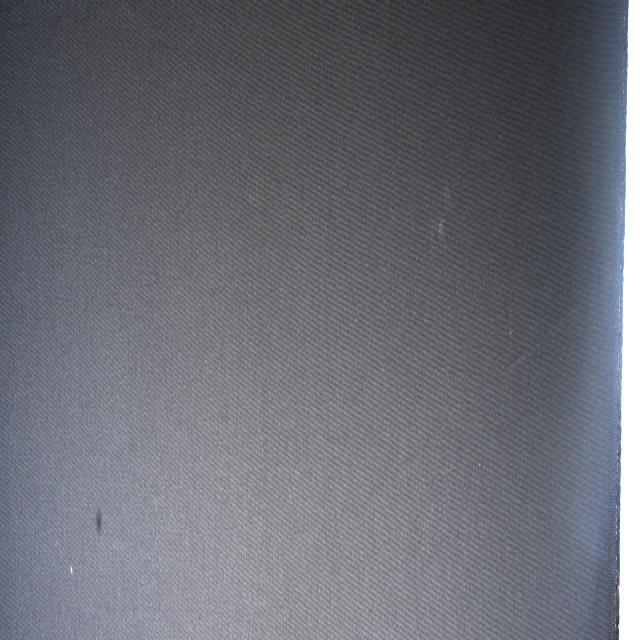whiteDefect: (428, 189, 454, 289), (69, 560, 74, 583)
